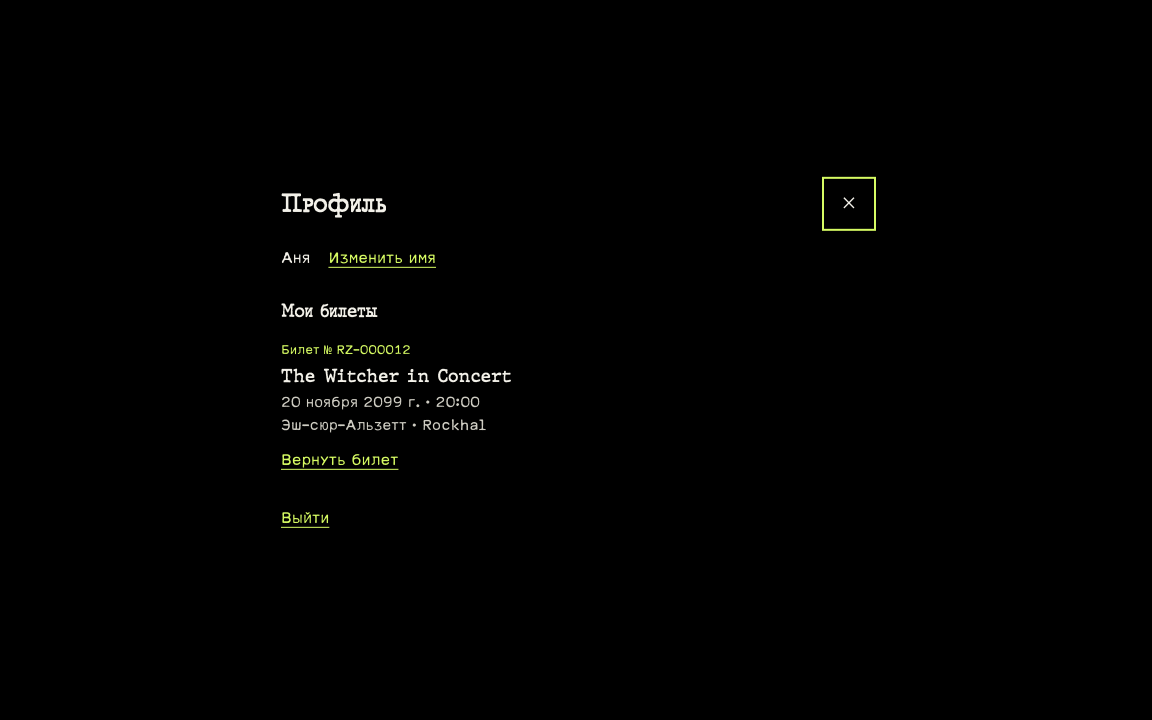
Test case: возвращает билет только после подтверждения и убирает его из списка
This screenshot has width=1152, height=720.
Click the button "Вернуть билет". click: click(340, 460)
box: [281,440,398,480]
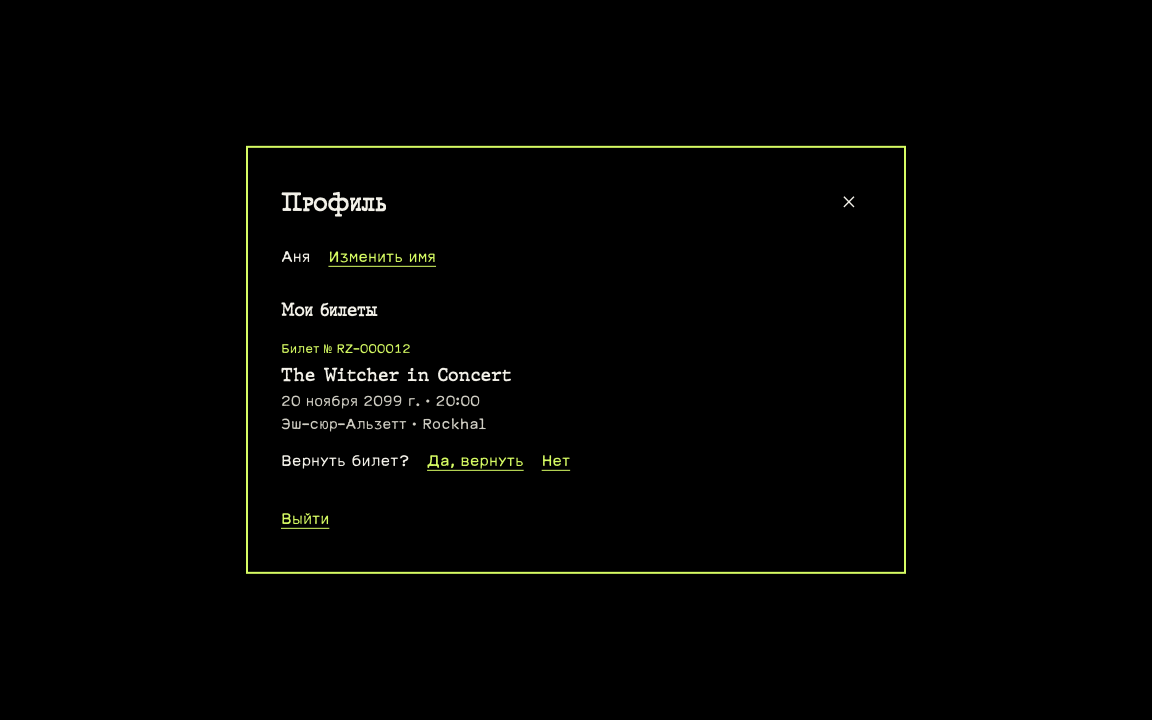
Click the button "Нет". click: click(556, 461)
box: [542,441,570,481]
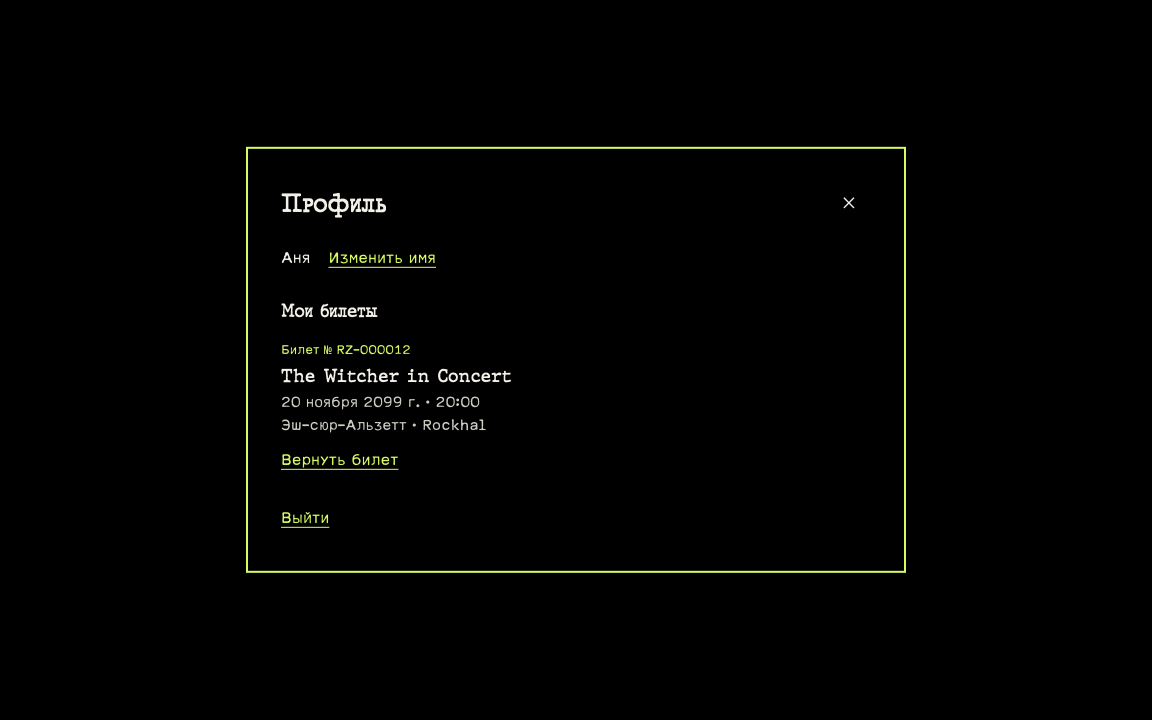
Click the button "Вернуть билет". click: click(340, 460)
box: [281,440,398,480]
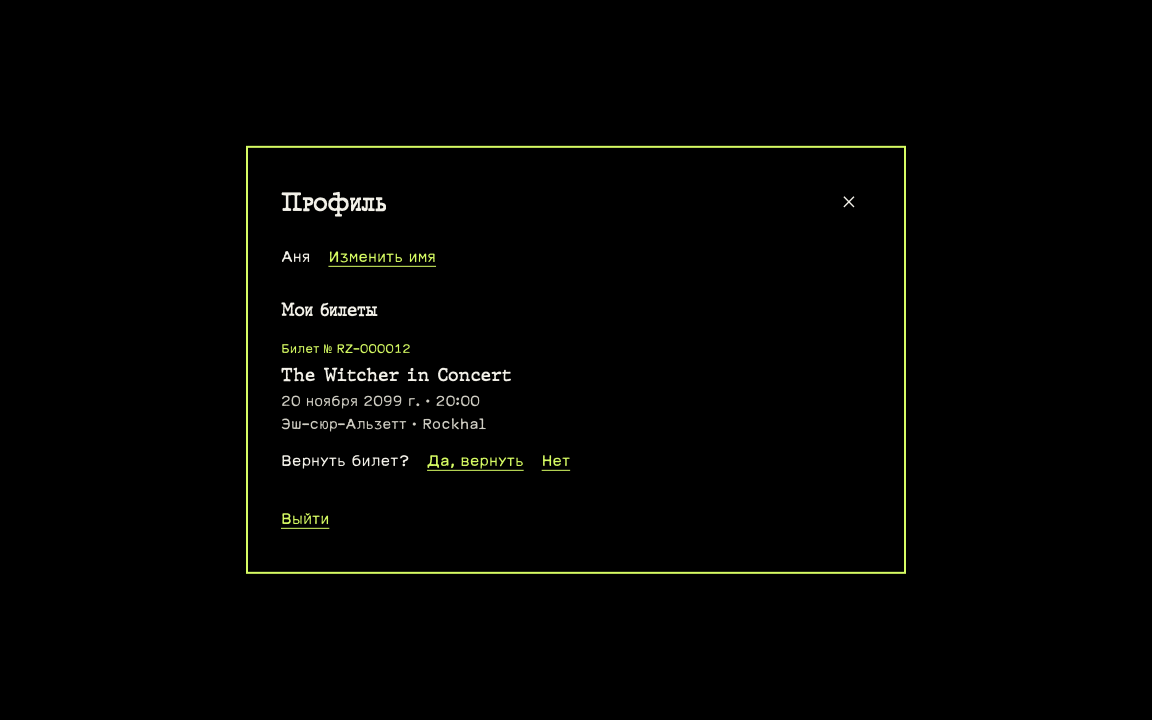
Click the button "Да, вернуть". click: click(475, 461)
box: [427,441,524,481]
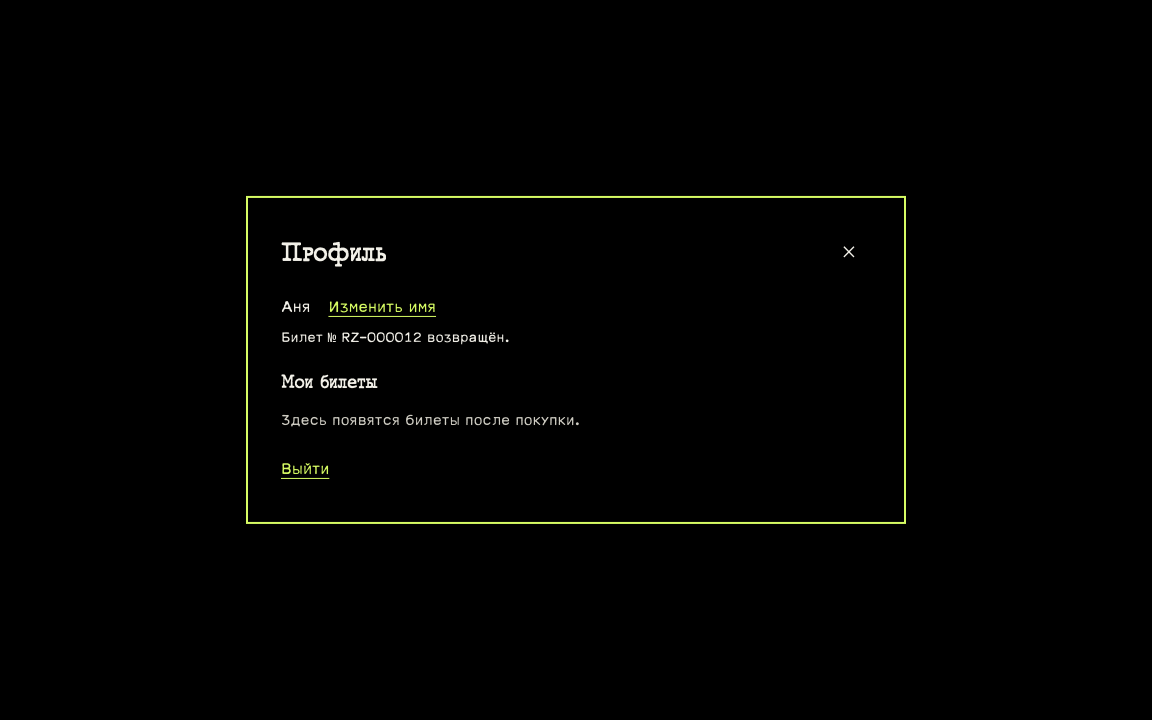
Result: the text "Билет № RZ-000012 возвращён." is shown at [281,329,509,345]
Result: the list item is gone
Result: the text "Здесь появятся билеты после покупки." is shown at [281,411,580,428]
